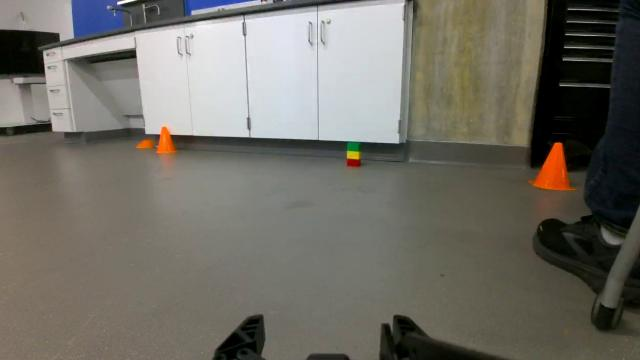lego: (343, 137, 366, 174)
